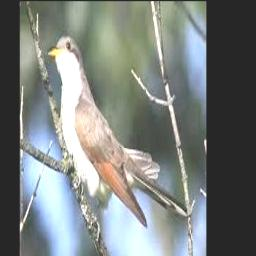Cuckoo: (47, 36, 188, 224)
